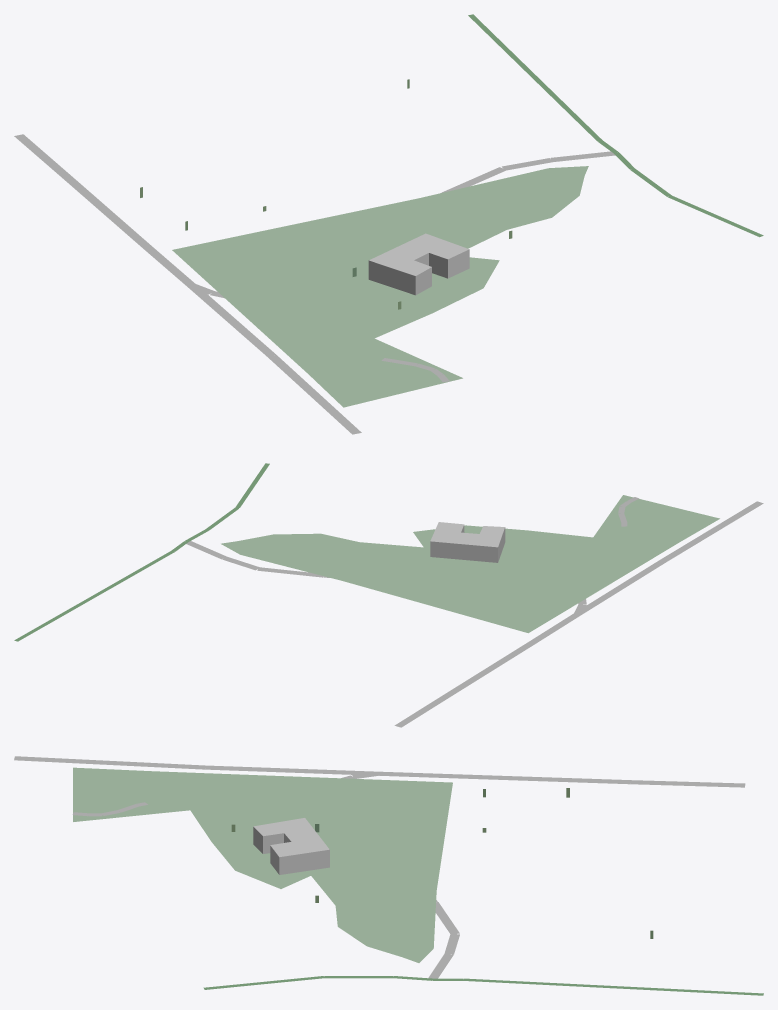
The picture shows the model from 3 angles, top to bottom: view 1: azimuth 30°, elevation 25°; view 2: azimuth 150°, elevation 25°; view 3: azimuth 270°, elevation 25°; orthographic projection. The views are drawn at different scales.
Bounding box in the file's own units: 403 × 15.12 × 538.
